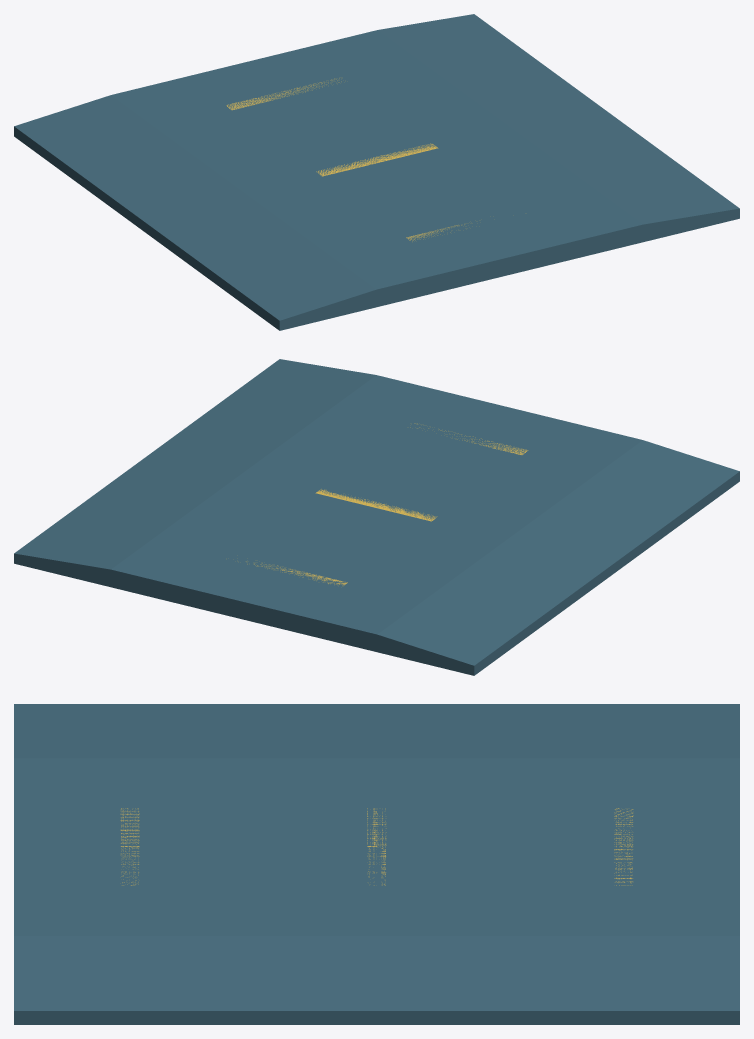
File: bus-threshold-deck.lod0.glb
3 views of the same model, one above another, from view 1: azimuth 30°, elevation 25°; view 2: azimuth 150°, elevation 25°; view 3: azimuth 270°, elevation 25° (orthographic). The views are drawn at different scales.
Parts seen in each view (by area): view 1: module-batch-painted-metal, module-batch-tactile-yellow; view 2: module-batch-painted-metal, module-batch-tactile-yellow; view 3: module-batch-painted-metal, module-batch-tactile-yellow.
Part boxes in pixels (<box>): module-batch-painted-metal: <box>14,14,739,330</box>; module-batch-tactile-yellow: <box>226,78,464,241</box>; module-batch-painted-metal: <box>14,359,739,675</box>; module-batch-tactile-yellow: <box>246,423,528,585</box>; module-batch-painted-metal: <box>14,704,739,1024</box>; module-batch-tactile-yellow: <box>120,808,633,885</box>.
Bounding box in the file's own units: 0.95 × 0.035 × 0.95.
